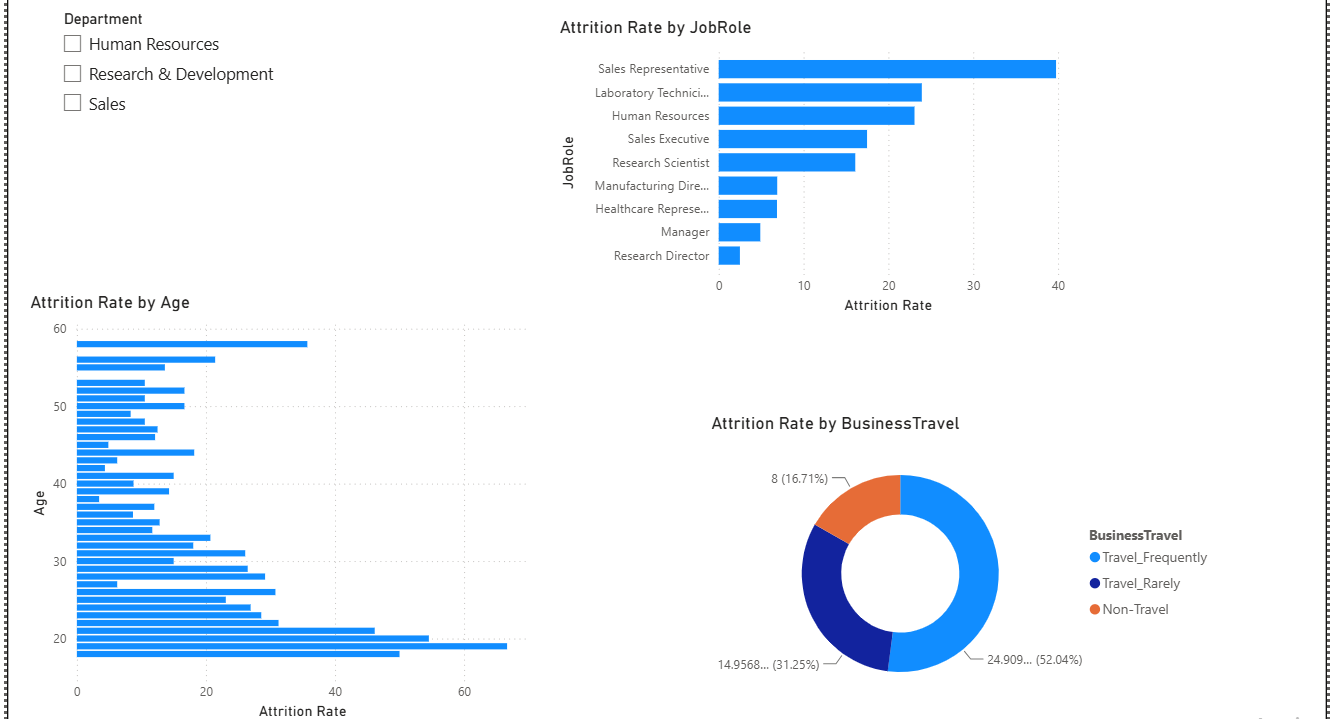

The page's visual inventory and layout, read from the dashboard file:
{"tool":"powerbi","page":{"name":"Attrition Analysis","canvas":[1280,720],"ordinal":1},"visuals":[{"type":"clusteredBarChart","fields":{"Y":["Performance.Attrition Rate"],"Category":["Employee.Age"]},"box":[9.7,0,500.3,419.4],"z":0},{"type":"barChart","fields":{"Category":["Job_Info.JobRole"],"Y":["Performance.Attrition Rate"]},"box":[531.1,35.6,500.3,291.5],"z":1000},{"type":"donutChart","fields":{"Category":["Job_Info.BusinessTravel"],"Y":["Performance.Attrition Rate"]},"box":[388.6,398.3,500.3,291.5],"z":2000},{"type":"slicer","fields":{"Values":["Job_Info.Department"]},"box":[9.7,419.4,251,217],"z":3000}]}

Visuals, with their boxes on the page's 1280x720 design canvas (x1, y1, x2, y2). These are canvas units, not pixel positions in the 1331x719 screenshot, which may show the page scaled, cropped or inside an application window:
clusteredBarChart - Performance.Attrition Rate x Employee.Age: 10, 0, 510, 419
barChart - Job_Info.JobRole x Performance.Attrition Rate: 531, 36, 1031, 327
donutChart - Job_Info.BusinessTravel x Performance.Attrition Rate: 389, 398, 889, 690
slicer - Job_Info.Department: 10, 419, 261, 636
